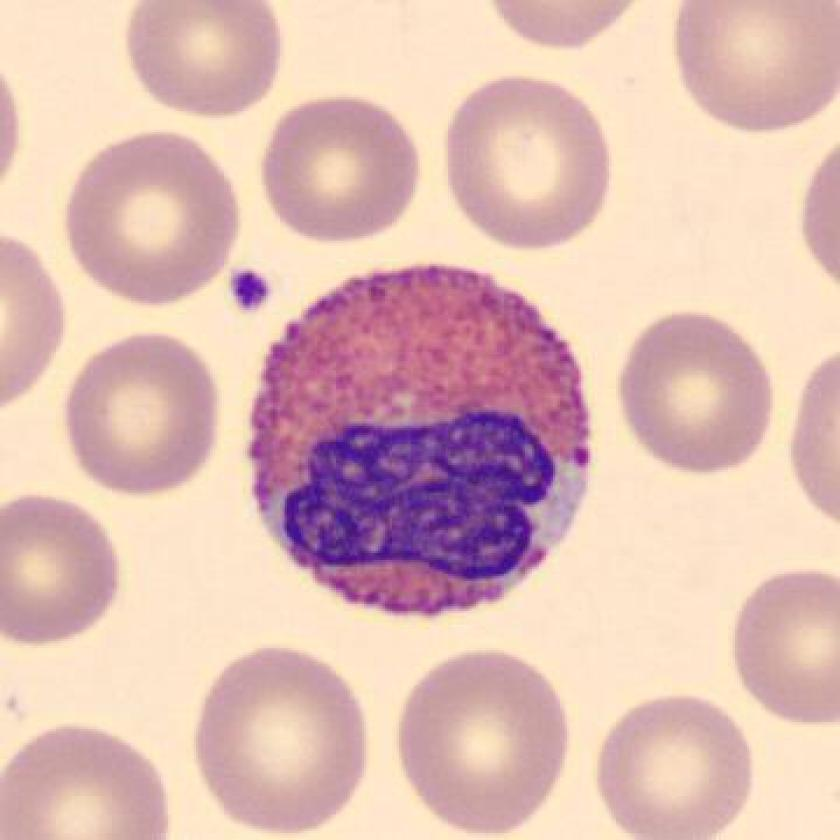eosinophil: (232, 258, 612, 630)
